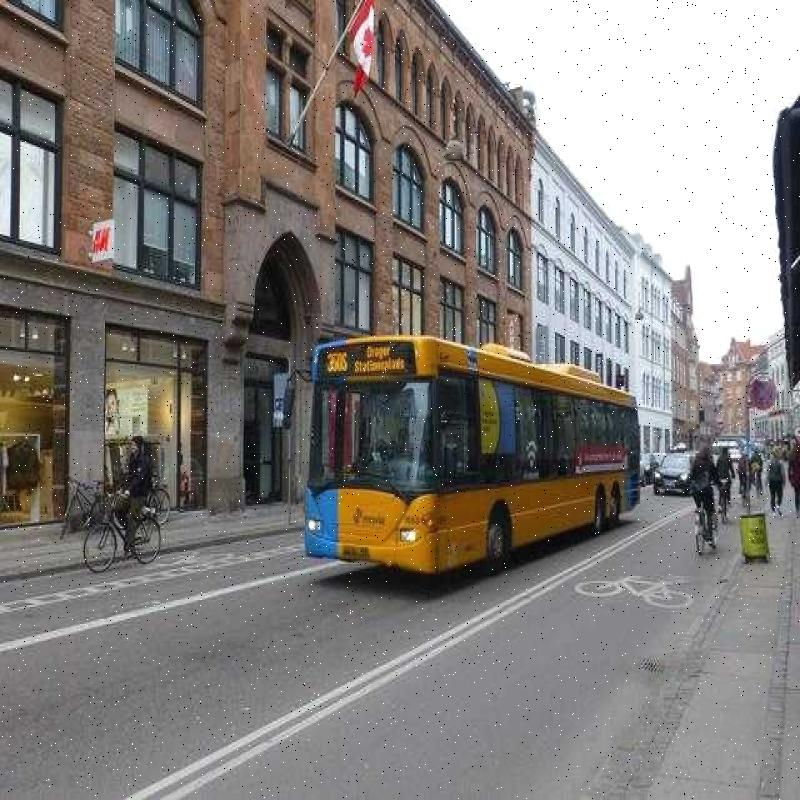bus: (272, 294, 662, 594)
